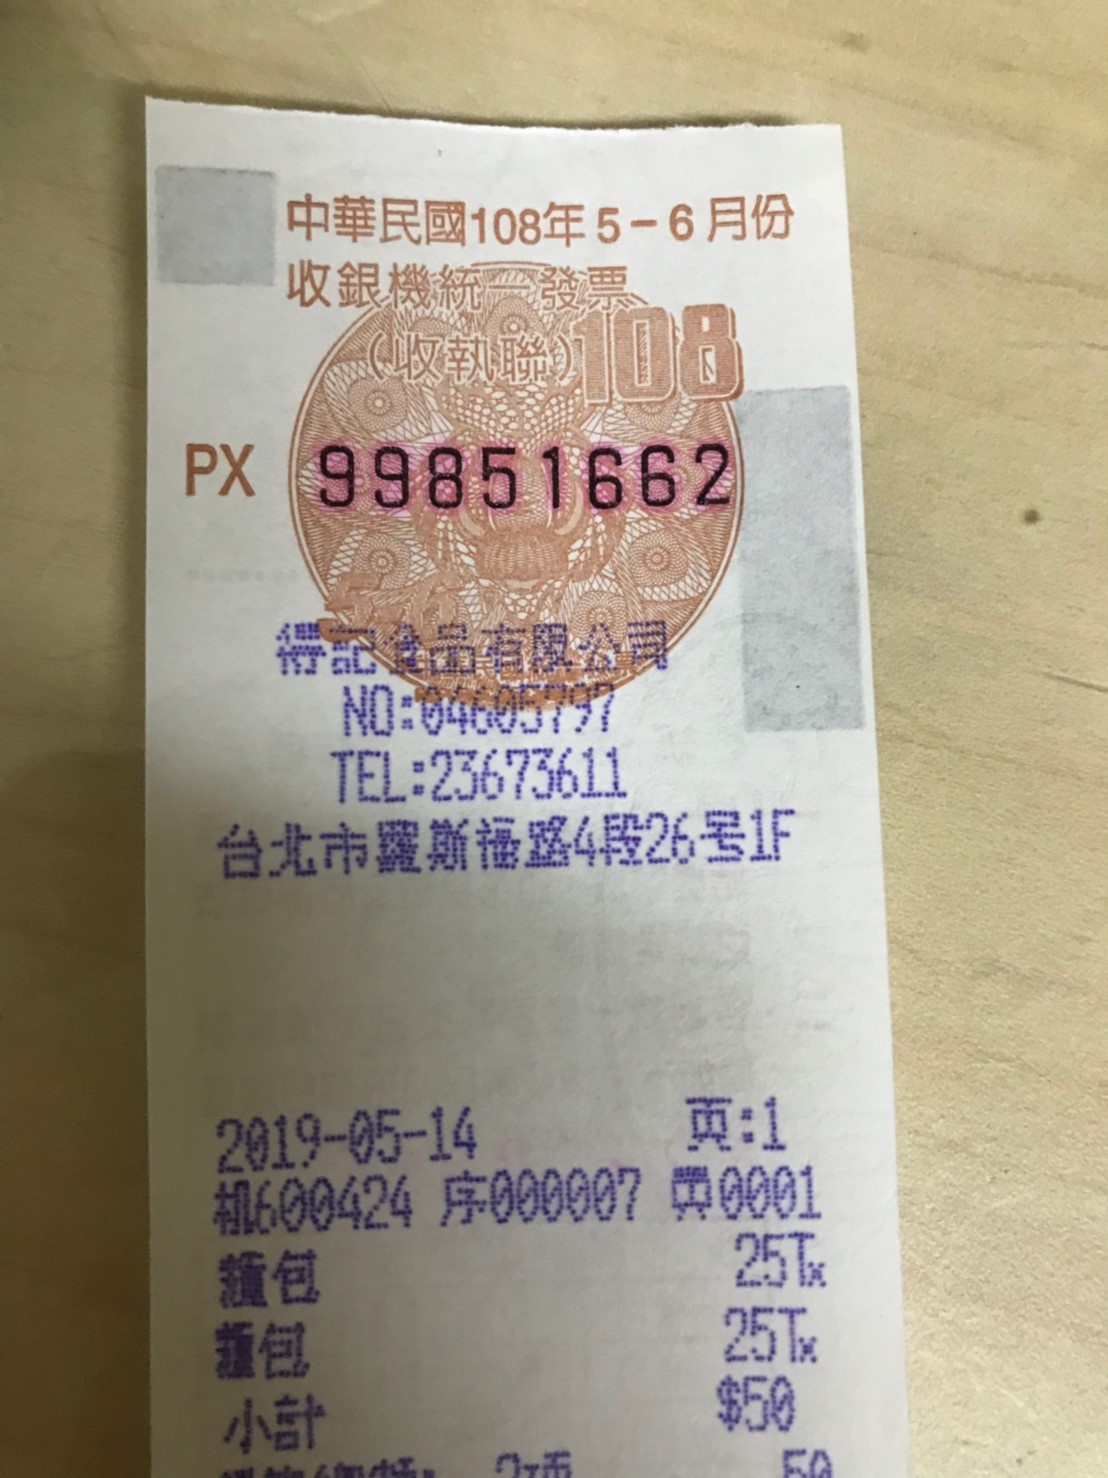Date_Old: (469, 190, 800, 248)
Number_Old: (312, 439, 736, 516)
